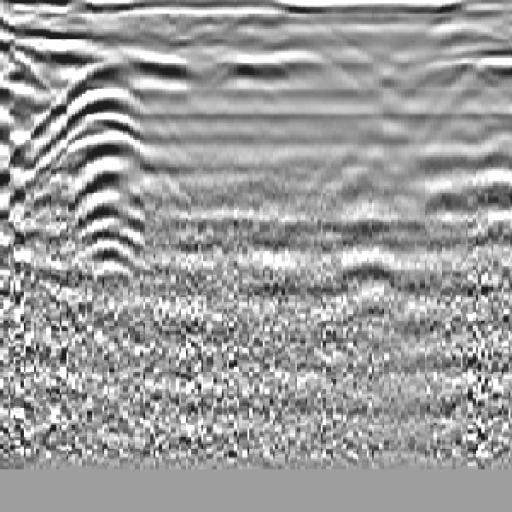metalic: (30, 48, 186, 277)
